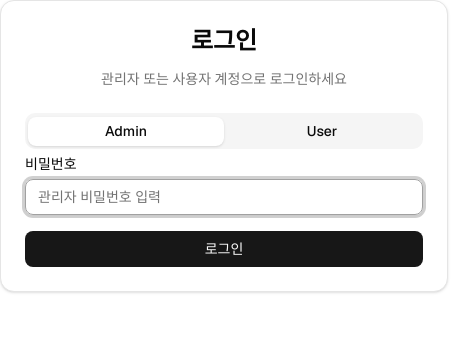
Scenario: LoginForm › shows error message on login failure
The image size is (465, 346).
Type "wrongpassword" into the password field labelled "비밀번호".
click(224, 197); type("wrongpassword")  # box [25,179,423,215]
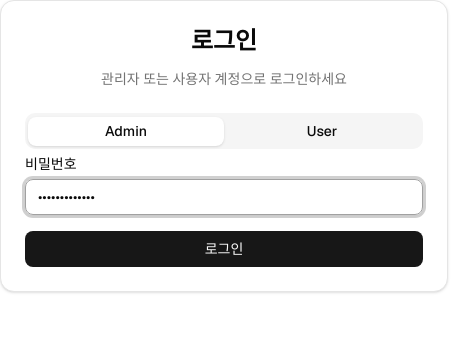
Click the button "로그인".
click(224, 249)  # box [25,231,423,267]
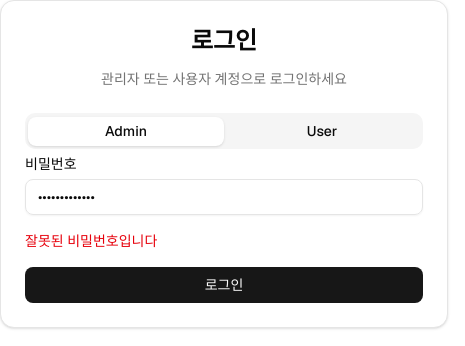
expect the text "잘못된 비밀번호입니다" is shown: met, box [25,232,157,250]
